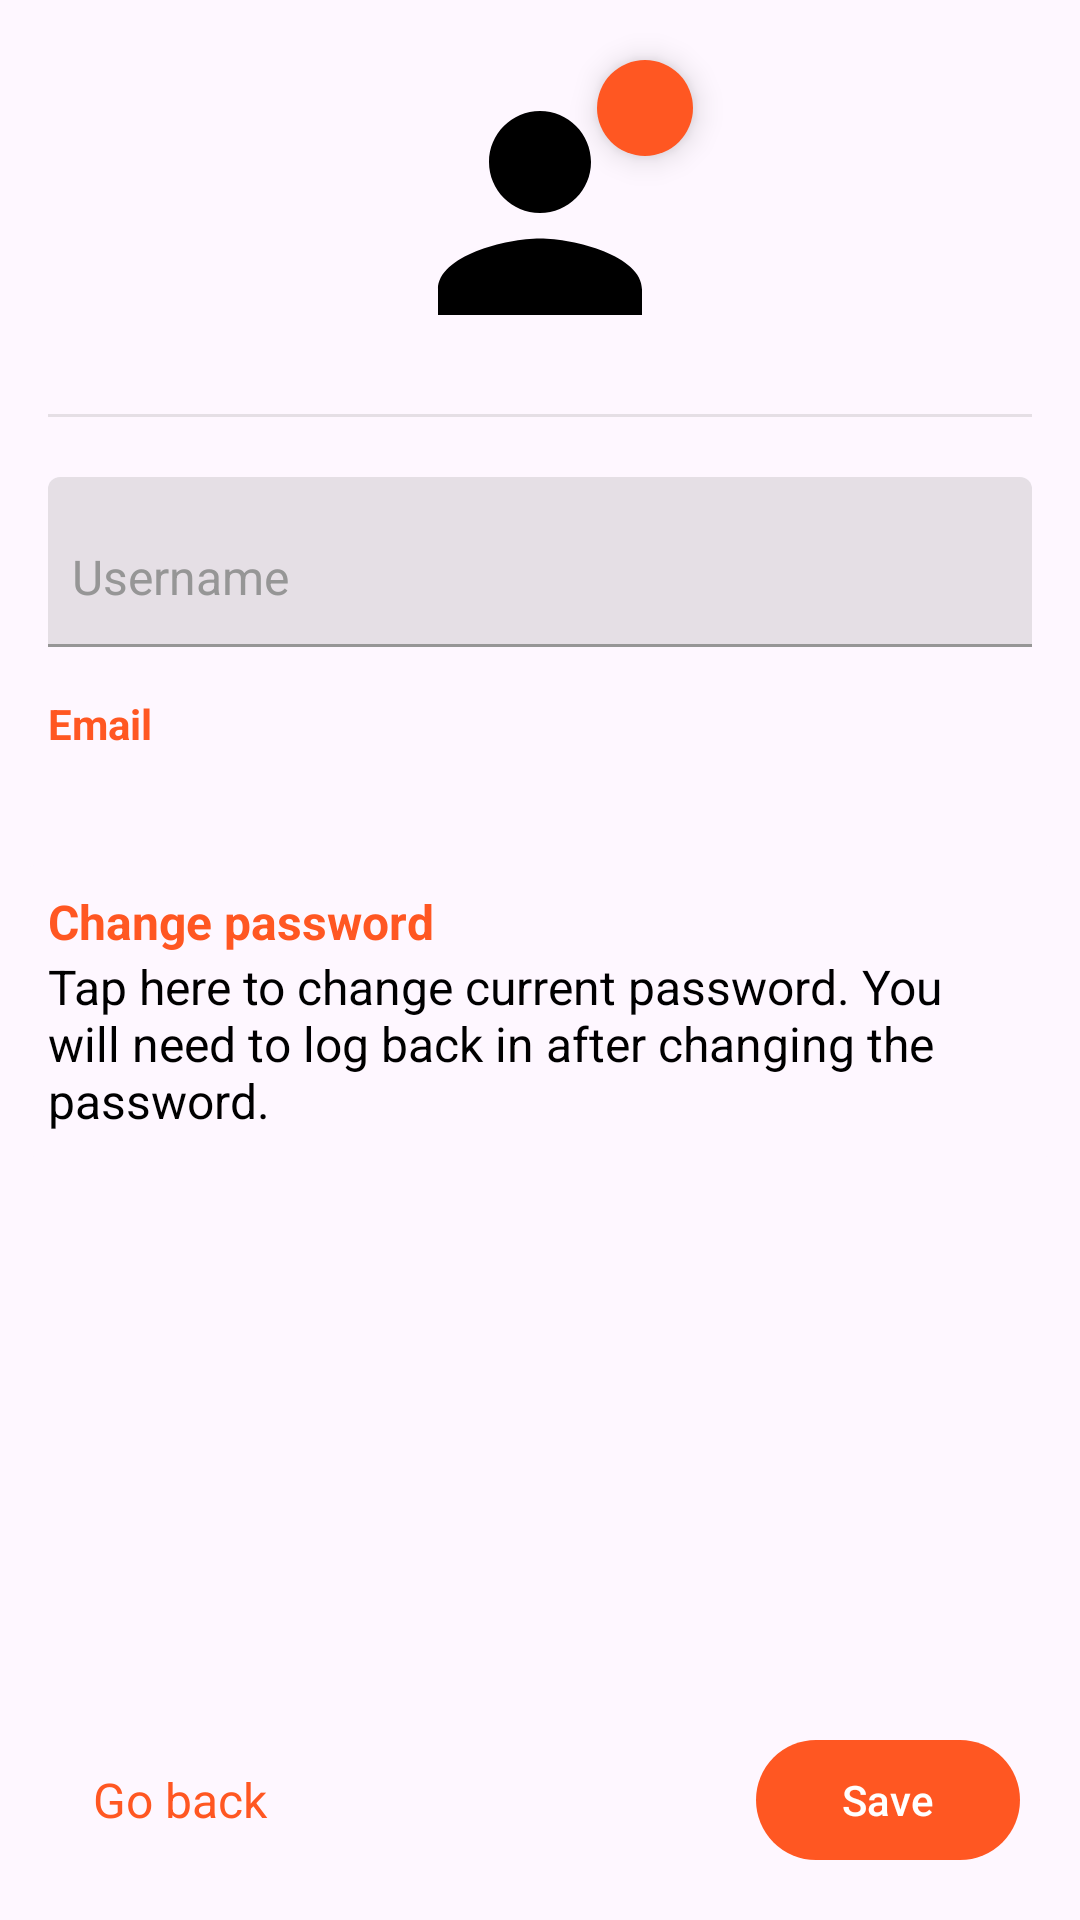

Screen size 1080w x 1920h. Icon name, then its center in pixels as (x=x, y=y):
User's profile picture: (x=565, y=187)
